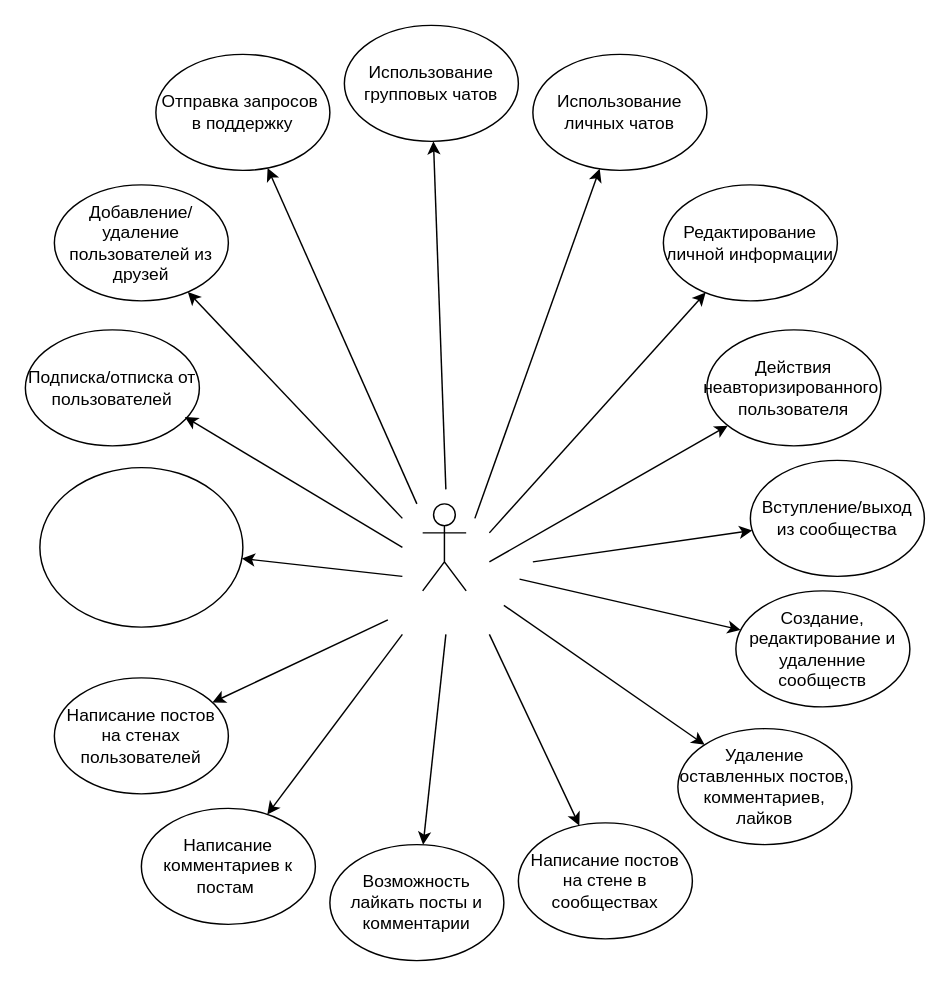
The diagram is 950 pixels wide and 986 high, and some of its shapes have lost their labels. The shapes that lost their labels are listed below. From the top down, each one's centre as x and y in pixels, then its label:
(x=140, y=546): Просмотр друзей пользователей, собственных принятых и отправленных заявок
(x=443, y=546): Пользователь
